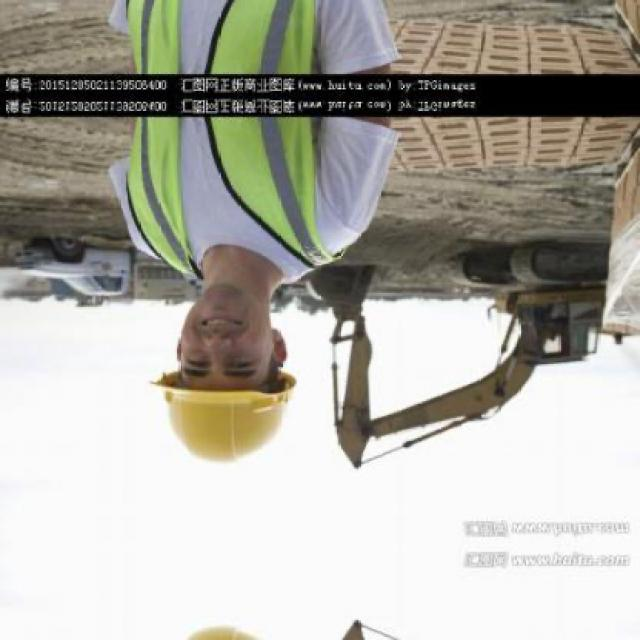safetyhelmet: (138, 304, 302, 482)
